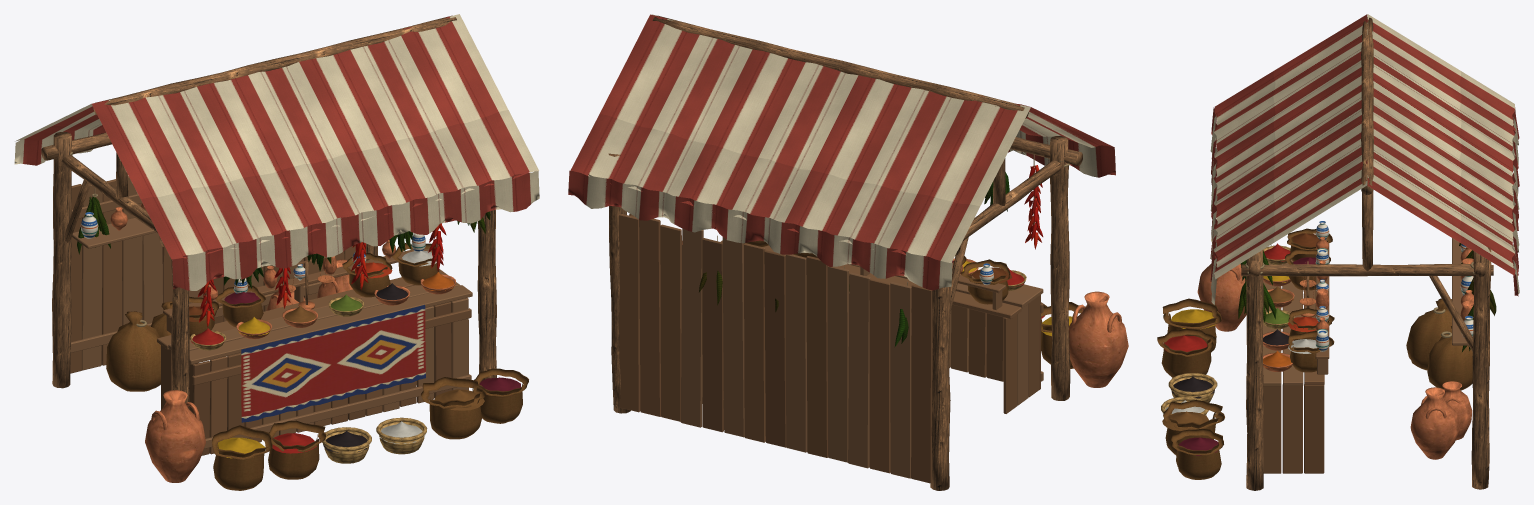
The model's file is village-kiosk-1.glb.
The picture shows the model from 3 angles, left to right: view 1: azimuth 30°, elevation 25°; view 2: azimuth 150°, elevation 25°; view 3: azimuth 270°, elevation 25°; orthographic projection. The views are drawn at different scales.
Parts seen in each view (by area): view 1: K1_Cloth, K1_Props, K1_Wood; view 2: K1_Wood, K1_Cloth, K1_Props; view 3: K1_Cloth, K1_Props, K1_Wood.
Part boxes in pixels (left/top/right/bottom): K1_Cloth: left=14, top=14, right=539, bottom=290; K1_Props: left=54, top=152, right=528, bottom=490; K1_Wood: left=41, top=15, right=496, bottom=455; K1_Wood: left=608, top=15, right=1082, bottom=490; K1_Cloth: left=568, top=14, right=1115, bottom=290; K1_Props: left=682, top=154, right=1128, bottom=387; K1_Cloth: left=1210, top=14, right=1519, bottom=304; K1_Props: left=1157, top=221, right=1496, bottom=479; K1_Wood: left=1241, top=17, right=1493, bottom=490.
Bounding box in the file's own units: 3.76 × 3.09 × 3.22.
Materials: 3 (3 with a texture image).
